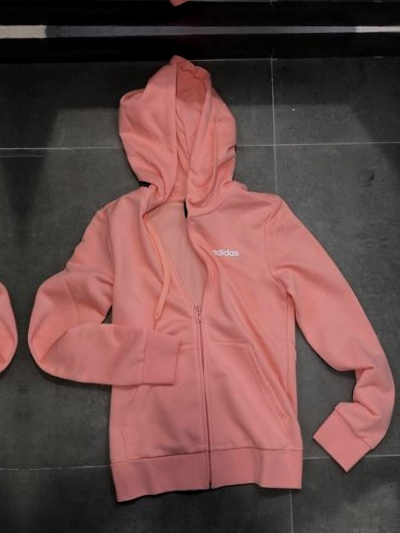Hoodie: (44, 50, 400, 527), (40, 0, 396, 10), (0, 53, 0, 530)
